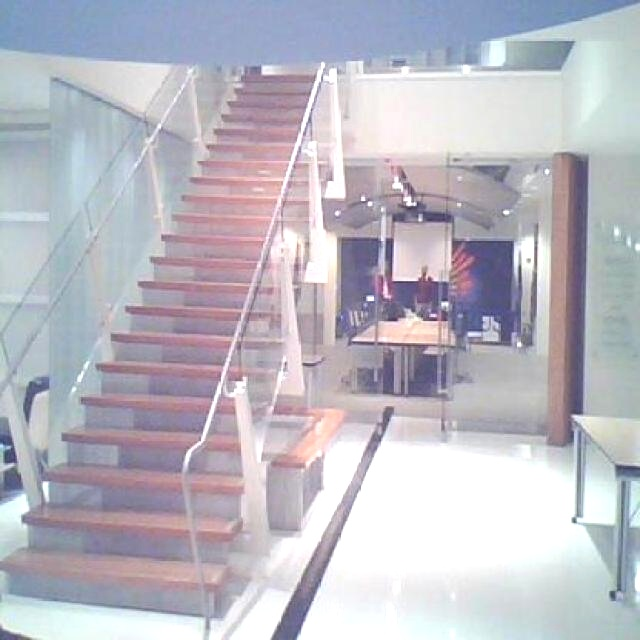stair: (0, 74, 351, 618)
